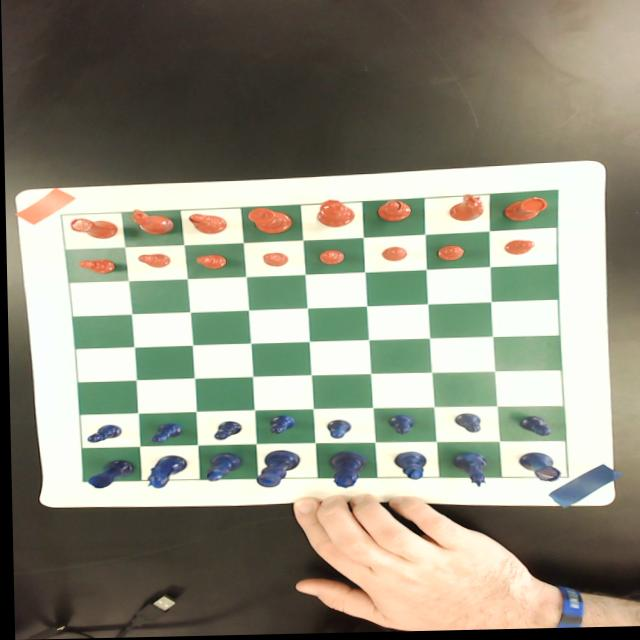B: (203, 454, 239, 483), (390, 453, 424, 482)
K: (252, 452, 299, 489)
N: (142, 455, 184, 490), (450, 454, 487, 492)
P: (516, 418, 550, 440), (147, 422, 181, 444), (82, 425, 119, 444), (383, 416, 411, 437), (265, 416, 293, 437), (450, 415, 479, 435), (210, 421, 238, 441), (323, 421, 349, 441)
Q: (326, 454, 365, 490)
R: (513, 454, 559, 486), (85, 461, 133, 490)
b: (185, 214, 227, 236), (373, 202, 413, 225)
cb: (60, 193, 565, 482)
k: (246, 209, 290, 236)
n: (125, 208, 174, 238), (446, 196, 482, 224)
p: (76, 259, 114, 275), (134, 254, 168, 270), (192, 255, 226, 271), (501, 242, 533, 258), (433, 246, 463, 263), (315, 251, 344, 267), (377, 248, 406, 263), (260, 254, 286, 268)
q: (314, 200, 353, 229)
r: (499, 199, 548, 224), (66, 218, 116, 240)
